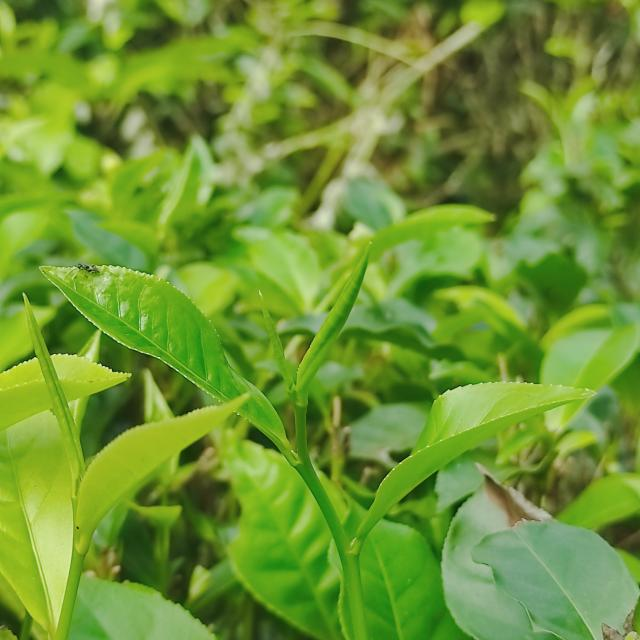unopened_leaf: (292, 234, 387, 408), (16, 287, 91, 500), (253, 283, 300, 401)
